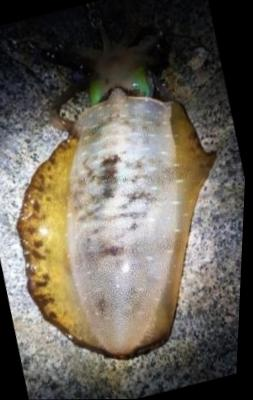Cephalopod: (18, 40, 215, 357)
